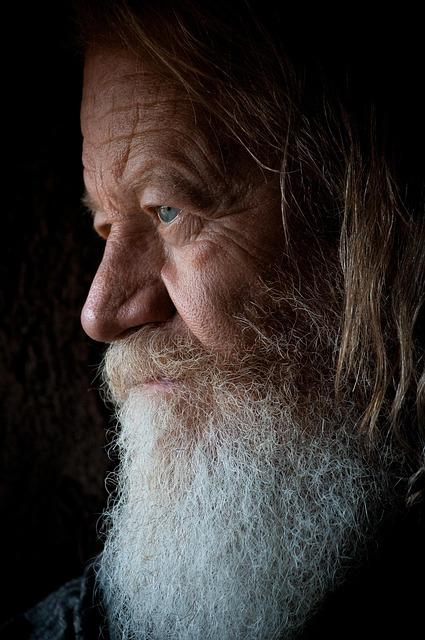Non_Gorille: (23, 1, 425, 640)
